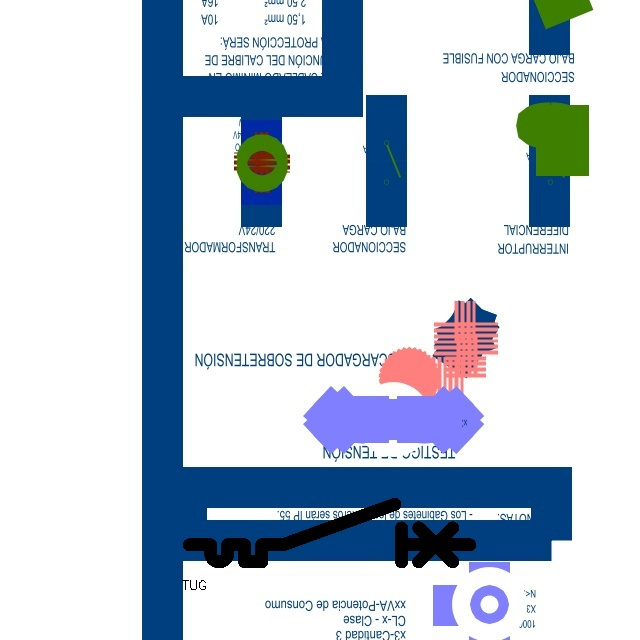interruptor_termomagnetico: (182, 497, 477, 569)
